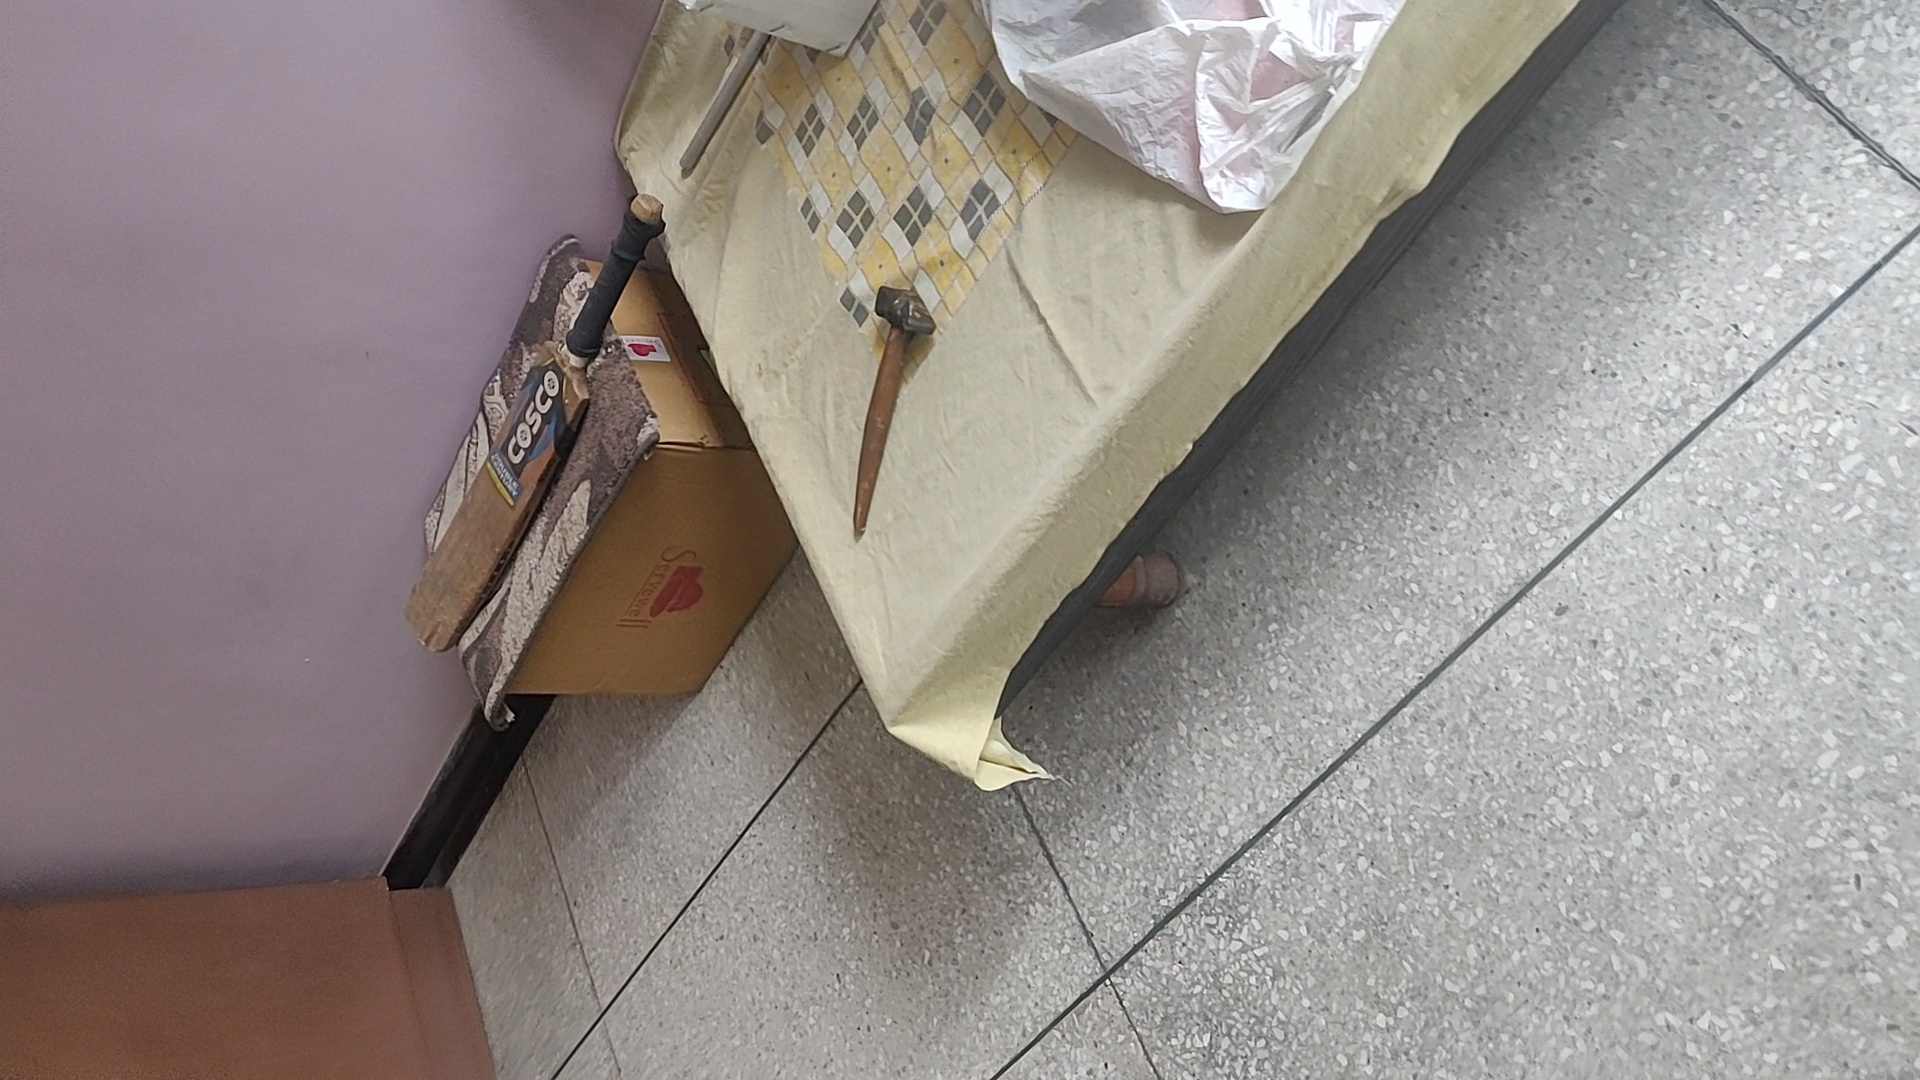hammer: (841, 284, 936, 537)
